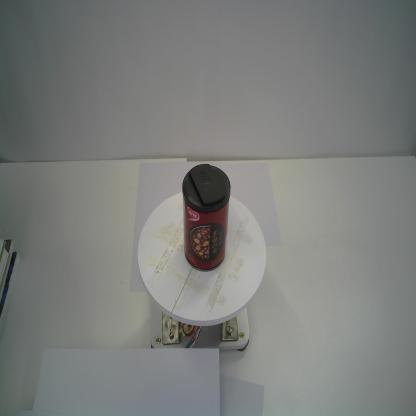Canned Food: (182, 162, 232, 274)
